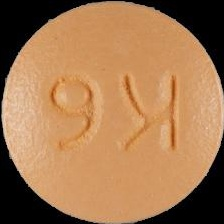68084-753: (0, 0, 224, 224)
